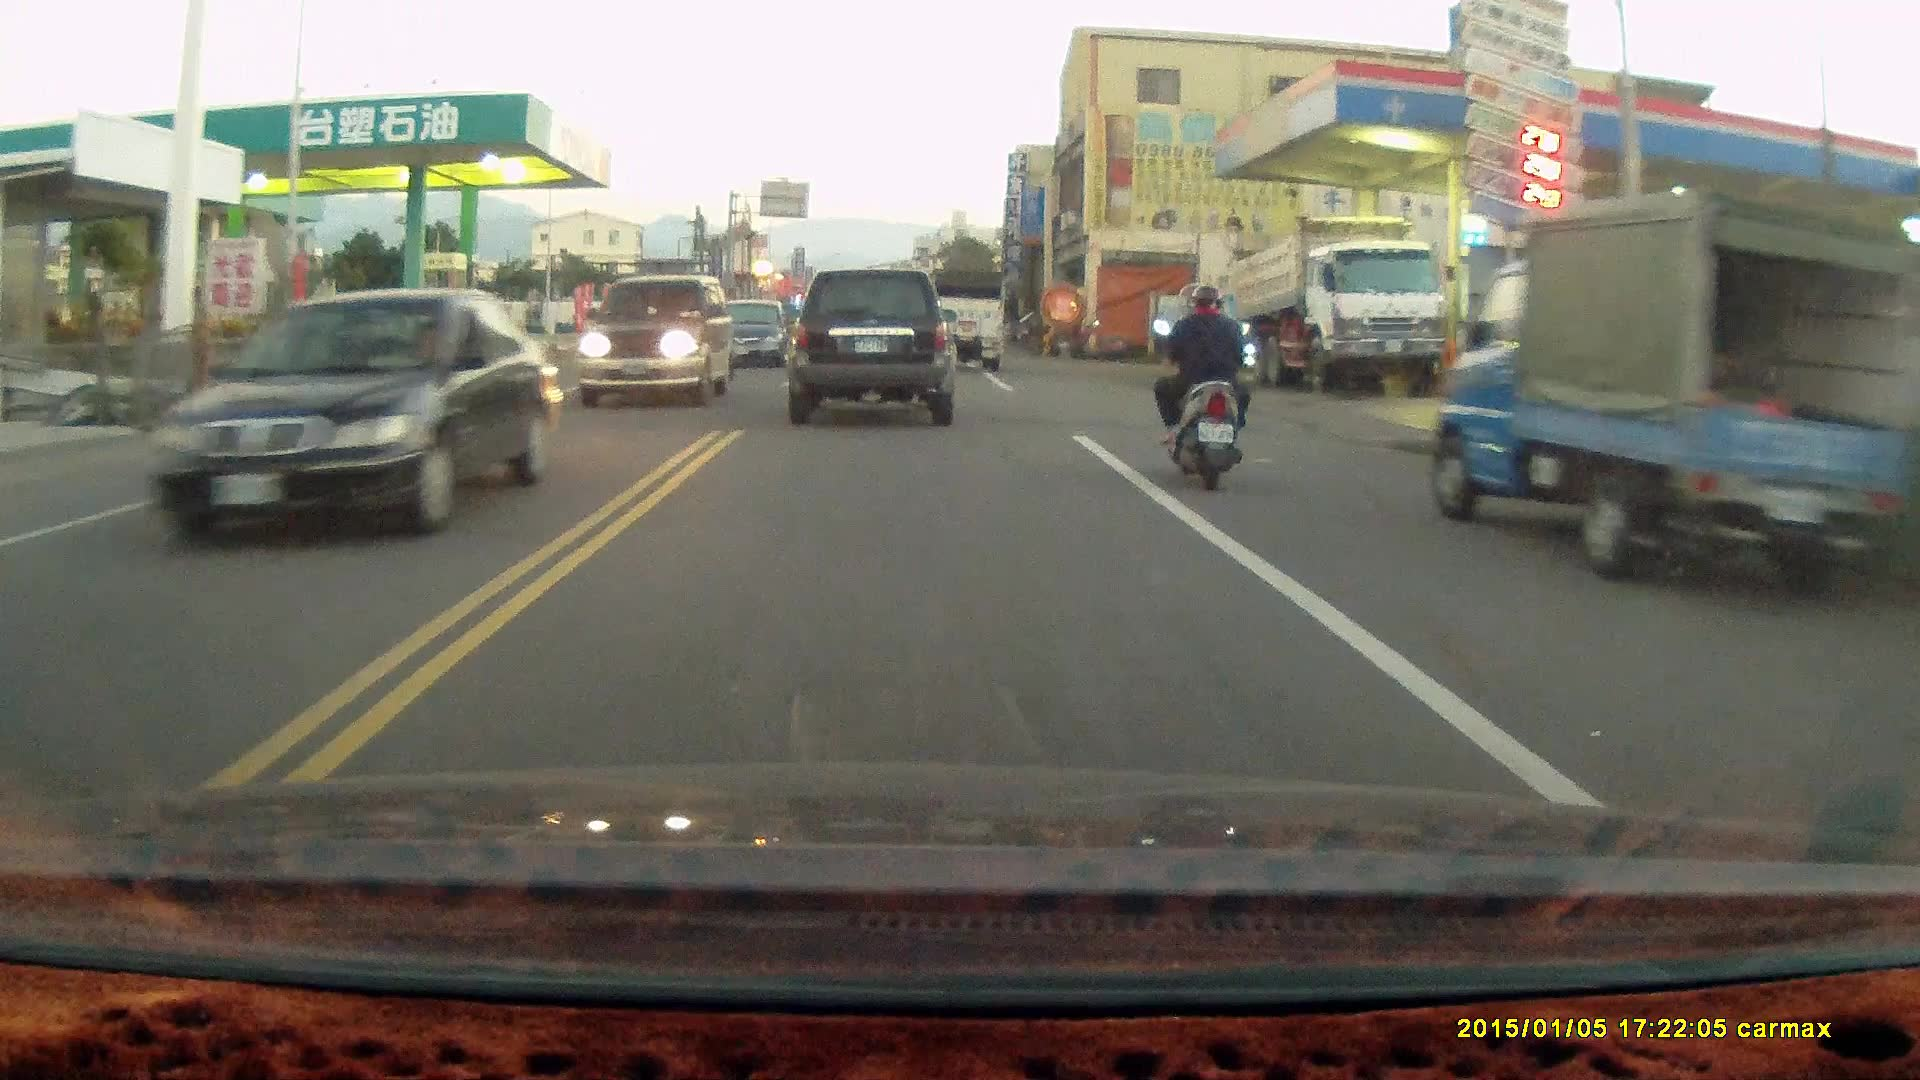rider: (1149, 281, 1255, 491)
vehicle: (1433, 185, 1920, 591), (143, 286, 551, 542), (1213, 198, 1445, 383), (789, 262, 955, 418), (581, 268, 736, 405), (916, 259, 1009, 370), (709, 299, 802, 370)
